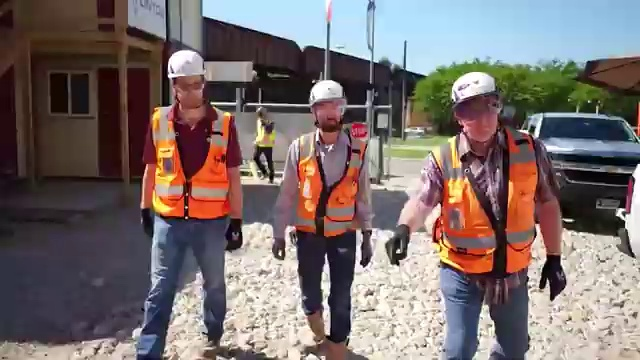helmet: (445, 67, 505, 109), (163, 48, 209, 77), (300, 78, 350, 103)
jacket: (426, 127, 546, 277), (146, 100, 236, 222), (291, 123, 370, 238)
